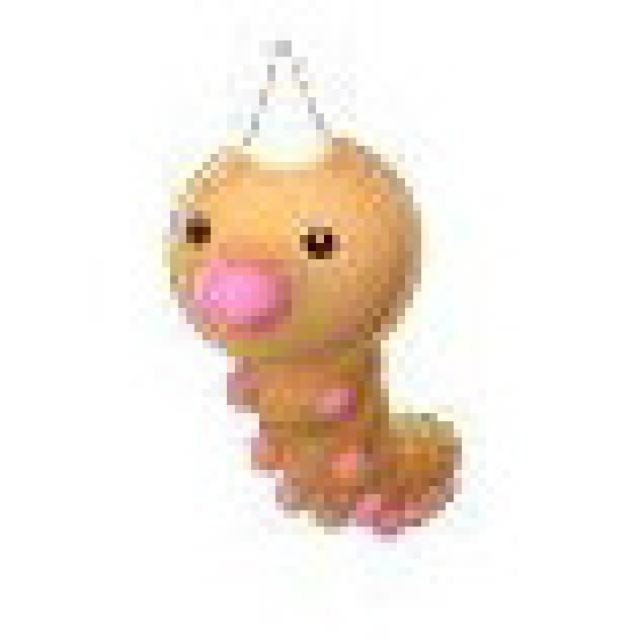Weedle: (160, 36, 470, 540)
